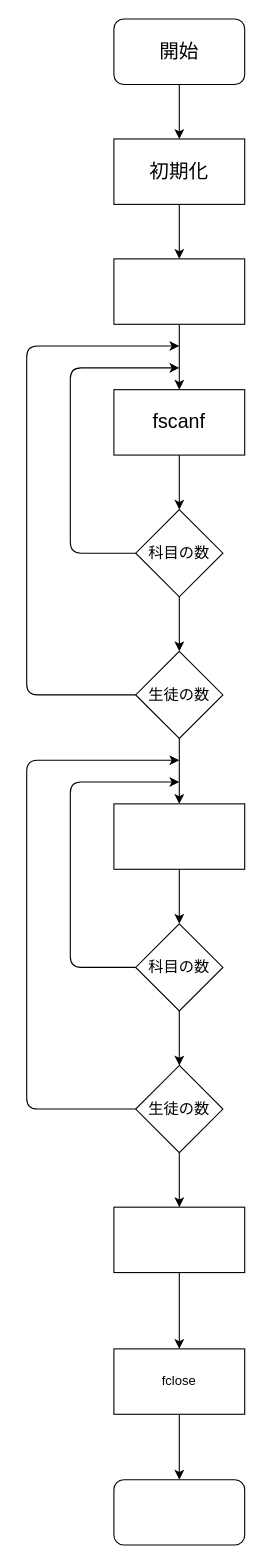
Image size: 264x1564. Some labels were removed from this diagram. Each missing label, with the centre of its shape:
"fopen" belongs at [179,291].
"生徒の最大得点を 表示" belongs at [179,1239].
"生徒の最大得点を代入" belongs at [179,836].
"終了" belongs at [179,1512].
